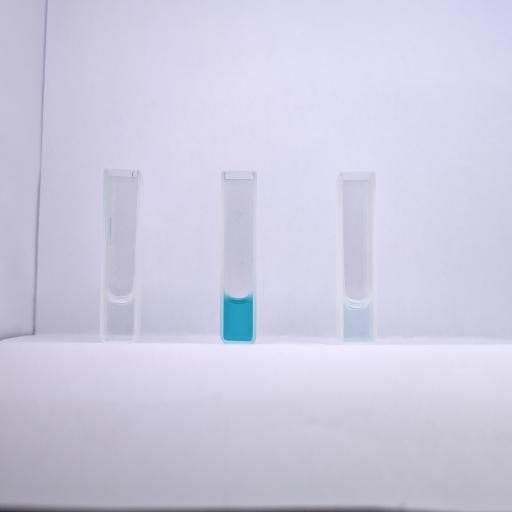cuvette: (99, 168, 143, 346), (338, 168, 379, 348), (218, 167, 259, 346)
liquid: (105, 294, 134, 339), (224, 295, 252, 341), (344, 300, 371, 342)
